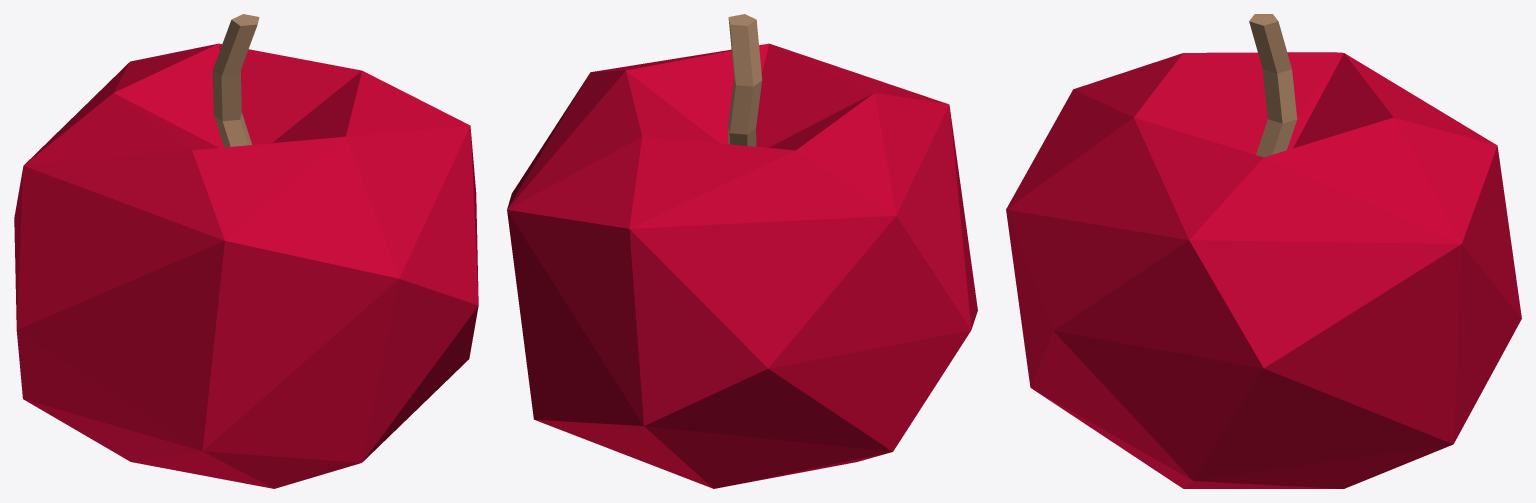
The model's file is AppleLowPoly.fbx.
The picture shows the model from 3 angles, left to right: view 1: azimuth 30°, elevation 25°; view 2: azimuth 150°, elevation 25°; view 3: azimuth 270°, elevation 25°; orthographic projection. The views are drawn at different scales.
Visible parts, largest first — view 1: Material_002-material; view 2: Material_002-material; view 3: Material_002-material.
Boxes of the visible parts, <box> form: Material_002-material: <box>14,14,478,488</box>; Material_002-material: <box>507,14,977,488</box>; Material_002-material: <box>1006,14,1521,488</box>.
Bounding box in the file's own units: 78.63 × 67.6 × 74.73.
